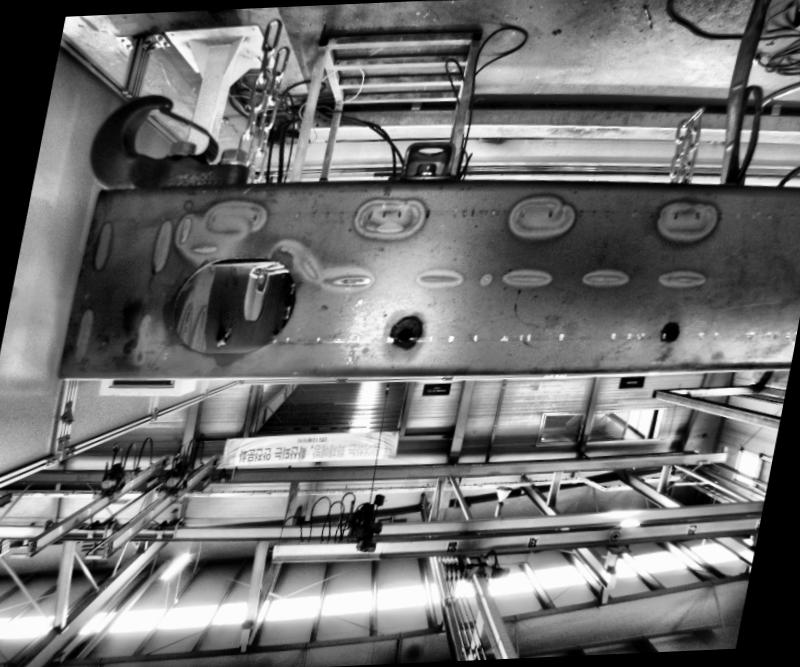bolt: (410, 163, 438, 181)
bracket: (374, 134, 474, 186)
hole: (152, 256, 306, 363), (392, 330, 414, 348), (663, 329, 677, 343)
